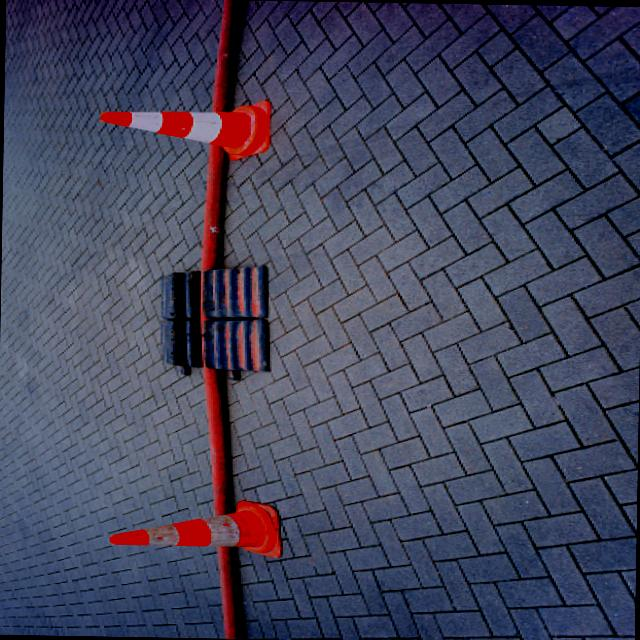cone: (62, 84, 272, 172), (95, 496, 284, 556)
